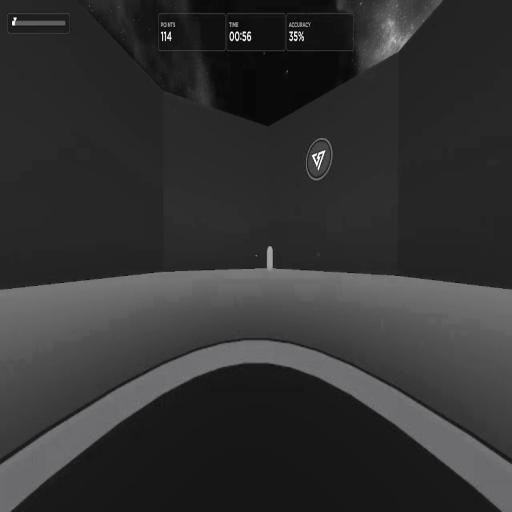Crosshair: (255, 254, 257, 257)
Target: (266, 245, 273, 272)
